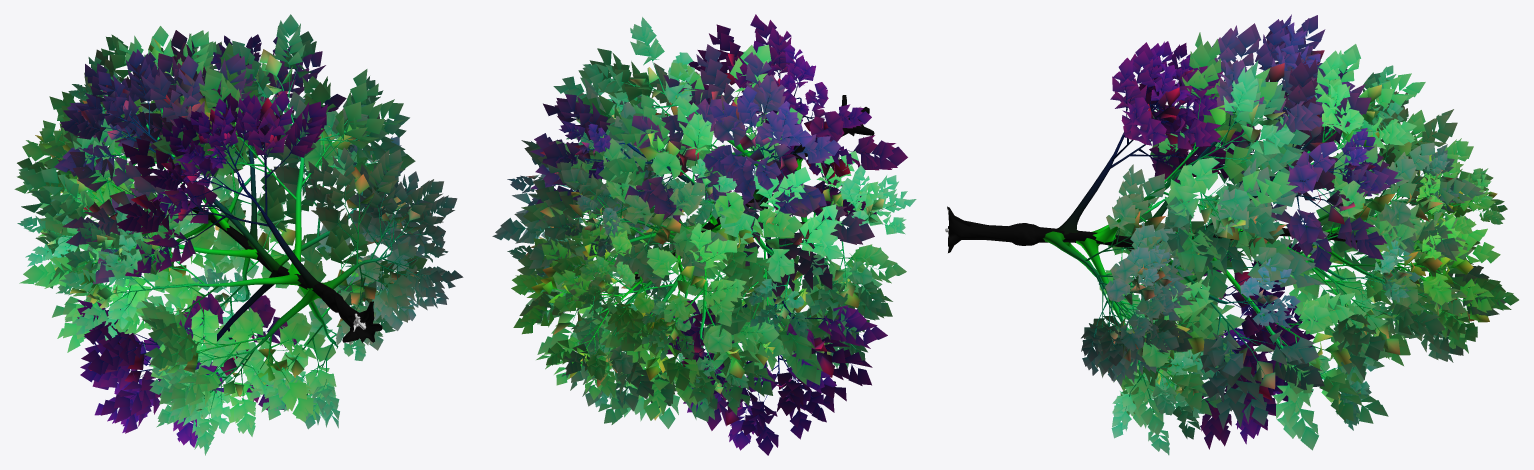
Rendered from SM_TreeIt_Maple.fbx.
3 renders of one model, left to right at view 1: azimuth 30°, elevation 25°; view 2: azimuth 150°, elevation 25°; view 3: azimuth 270°, elevation 25°, orthographic. The views are drawn at different scales.
Visible parts, largest first — view 1: leaf maple_1.001, bark02_0; view 2: leaf maple_1.001, bark02_0; view 3: leaf maple_1.001, bark02_0.
Part boxes in pixels (left/top/right/bottom): leaf maple_1.001: left=14, top=14, right=463, bottom=455; bark02_0: left=44, top=48, right=431, bottom=419; leaf maple_1.001: left=492, top=14, right=916, bottom=455; bark02_0: left=518, top=39, right=894, bottom=413; leaf maple_1.001: left=1081, top=14, right=1518, bottom=455; bark02_0: left=945, top=41, right=1496, bottom=426.
Size of the model in its own units: 662 by 679 by 827.
